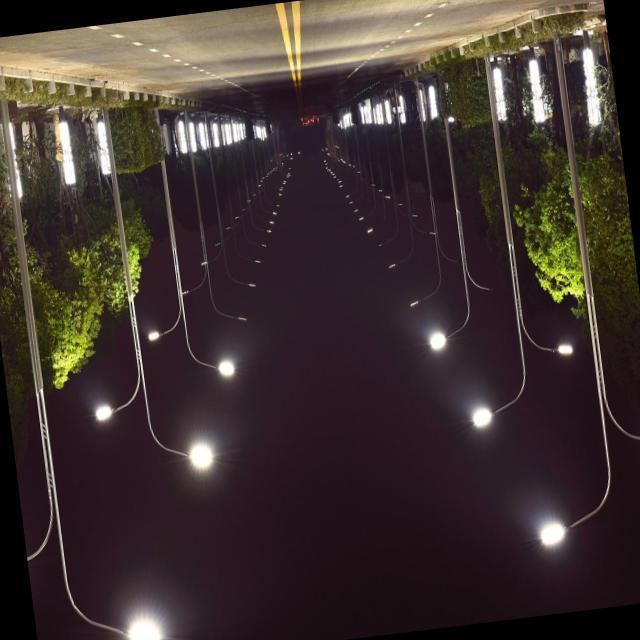on: (90, 573, 228, 640), (80, 368, 158, 466), (158, 410, 244, 498), (385, 298, 470, 384), (168, 333, 256, 406), (520, 295, 590, 376), (510, 496, 582, 574), (455, 375, 512, 452)
